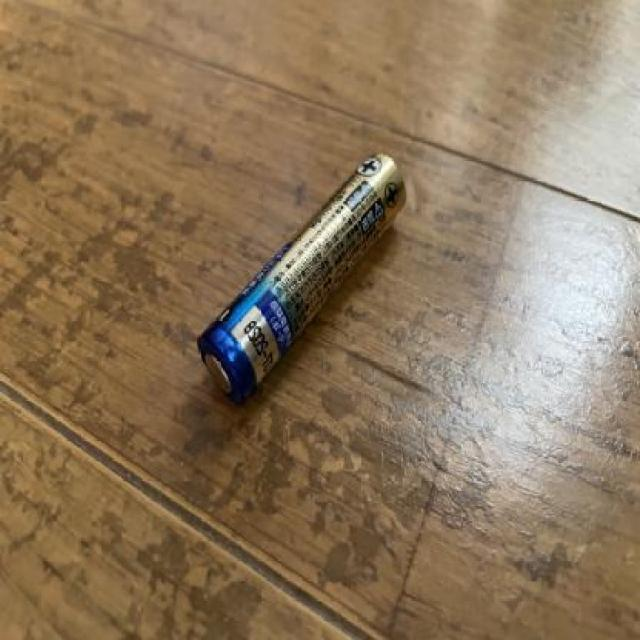hazardous waste: (197, 148, 408, 406)
